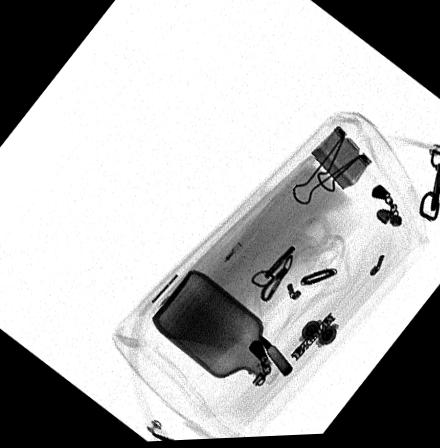Bullet: (256, 334, 293, 379)
